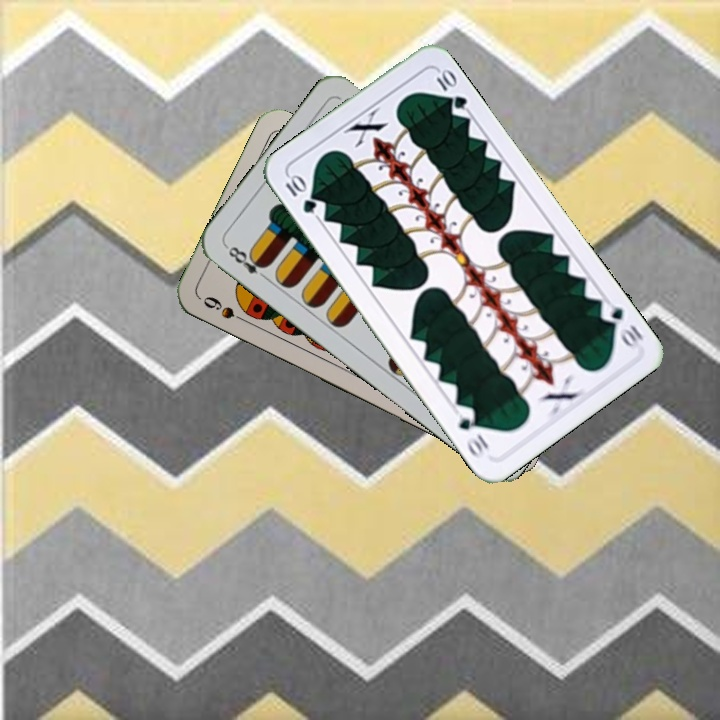E8: (222, 241, 272, 284)
G10: (595, 297, 646, 353), (281, 170, 320, 216)
S9: (199, 292, 253, 327)
